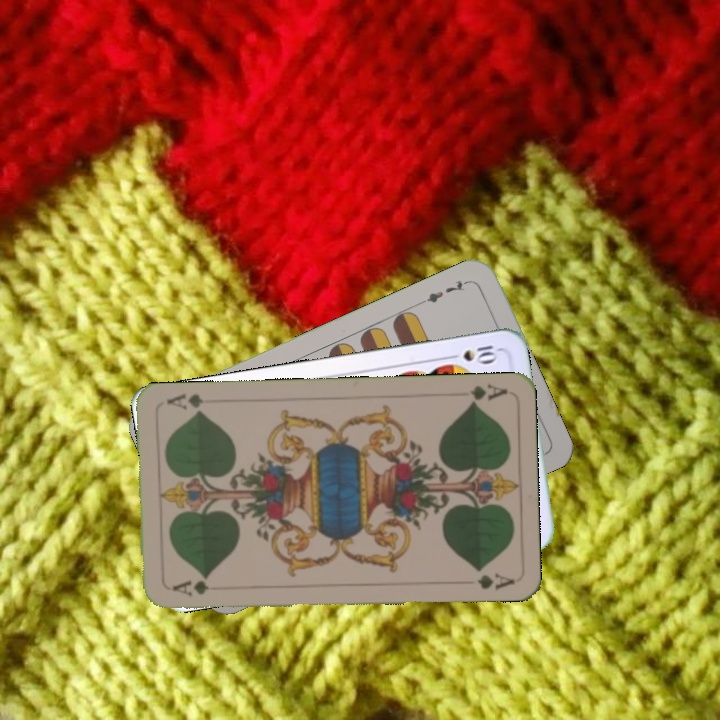E7: (416, 276, 472, 307)
GA: (168, 574, 225, 599), (465, 380, 509, 408)
S10: (442, 340, 501, 366)
